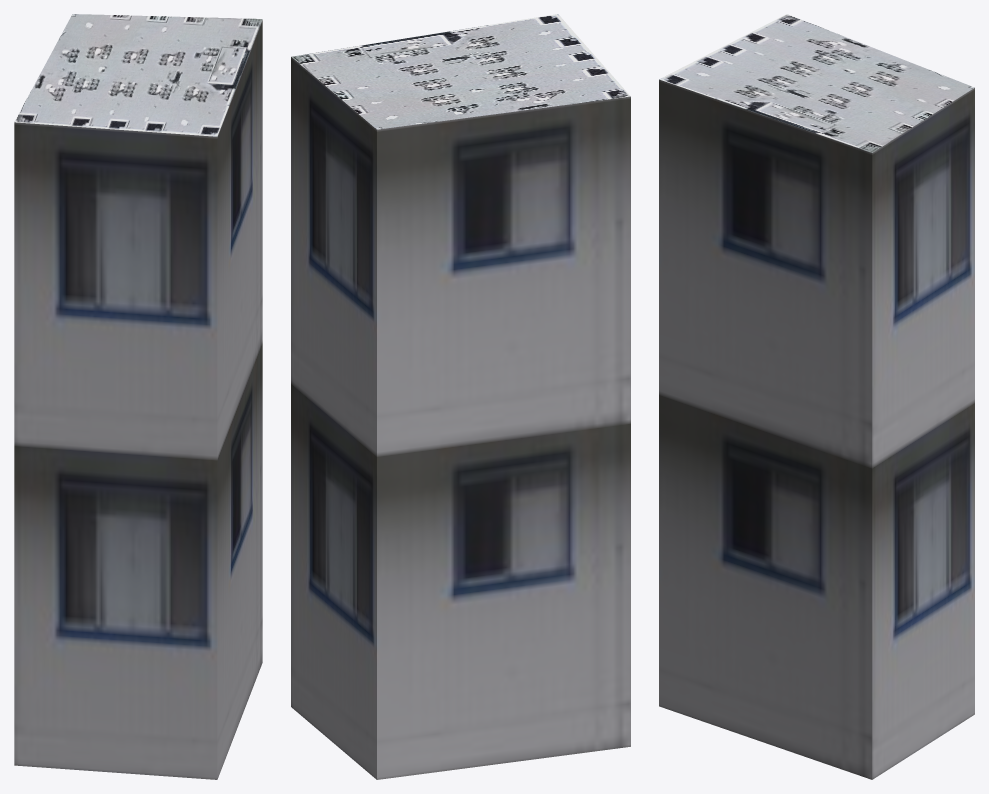
The model's file is ResTex__4436.fbx.
3 views of the same model, side by side, from view 1: azimuth 30°, elevation 25°; view 2: azimuth 150°, elevation 25°; view 3: azimuth 270°, elevation 25° (orthographic). The views are drawn at different scales.
Visible parts, largest first — view 1: CityEngineMaterial_9_m, CityEngineMaterial_2_m; view 2: CityEngineMaterial_9_m, CityEngineMaterial_2_m; view 3: CityEngineMaterial_9_m, CityEngineMaterial_2_m.
Part boxes in pixels (left/top/right/bottom): CityEngineMaterial_9_m: left=14, top=20, right=262, bottom=779; CityEngineMaterial_2_m: left=14, top=14, right=262, bottom=136; CityEngineMaterial_9_m: left=291, top=57, right=630, bottom=779; CityEngineMaterial_2_m: left=291, top=14, right=630, bottom=129; CityEngineMaterial_9_m: left=659, top=79, right=974, bottom=779; CityEngineMaterial_2_m: left=659, top=14, right=974, bottom=152.
Bounding box in the file's own units: 2.85 × 6 × 2.74.
Materials: 2 (2 with a texture image).
